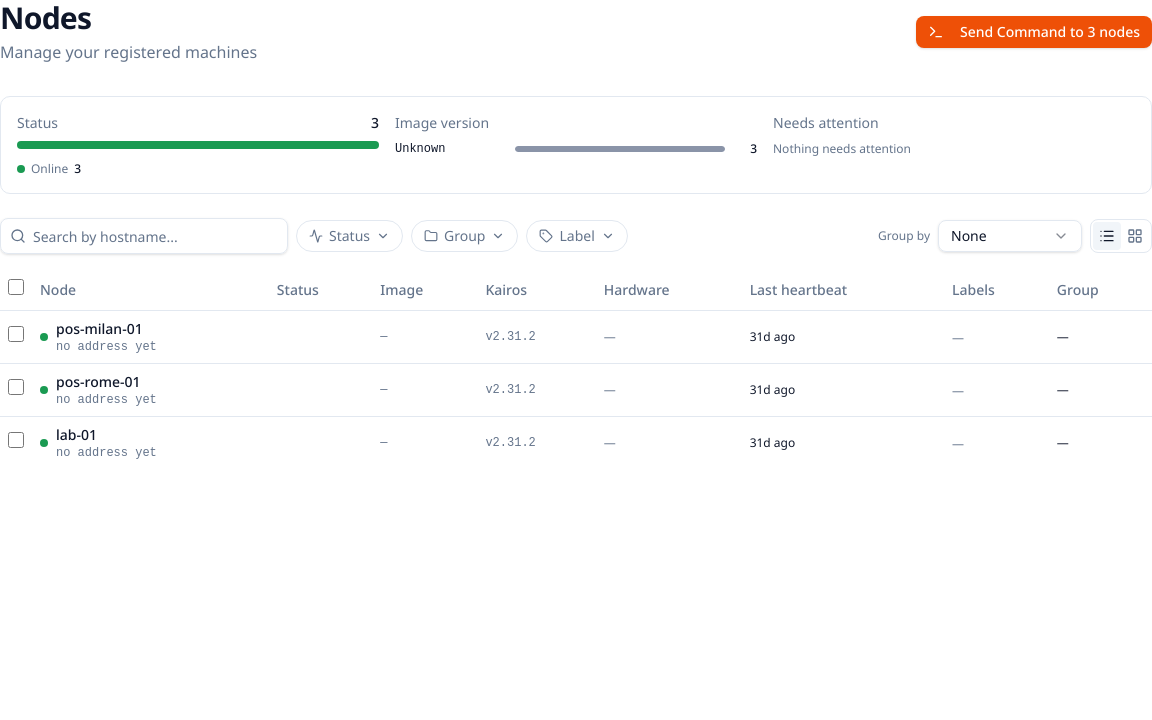
Test: Nodes bulk command › shows an error toast when the bulk command fails
This screenshot has width=1152, height=720.
Expected: the text "lab-01" is shown, [56,424,97,444]
Type "pos" into the field with placeholder "Search by hostname..." at (144, 236), box [0,218,288,254]
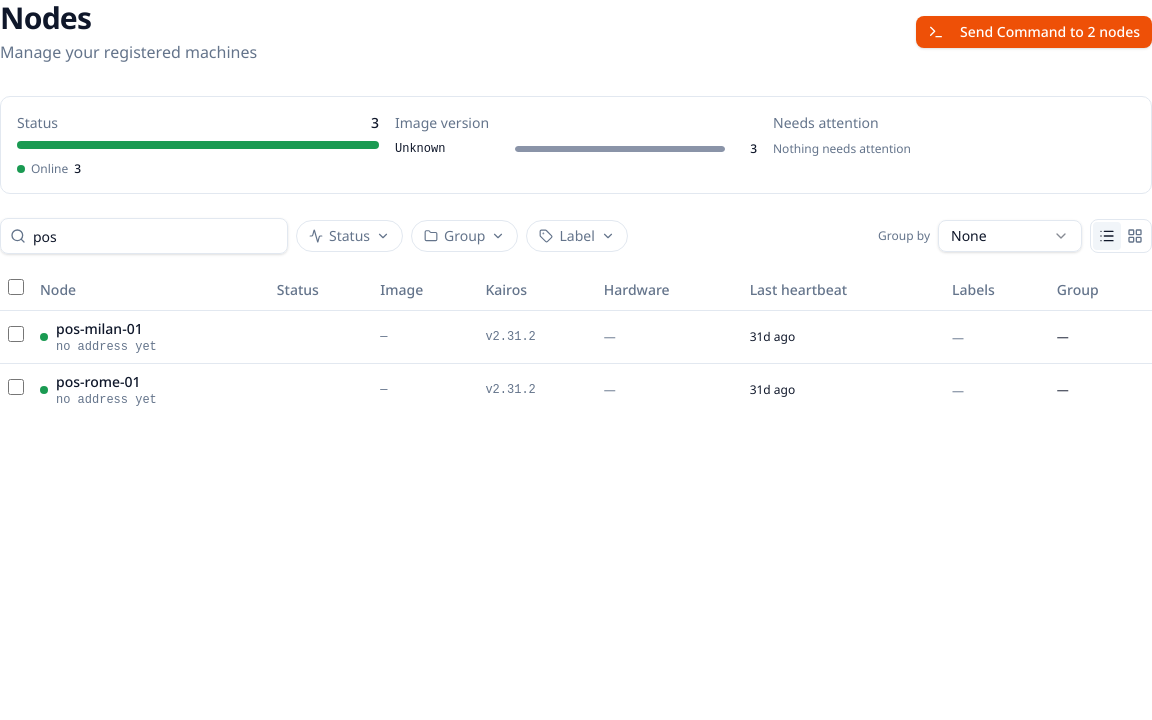
Click the button "Send Command to 2 nodes" at (1034, 32), box [916,16,1151,48]
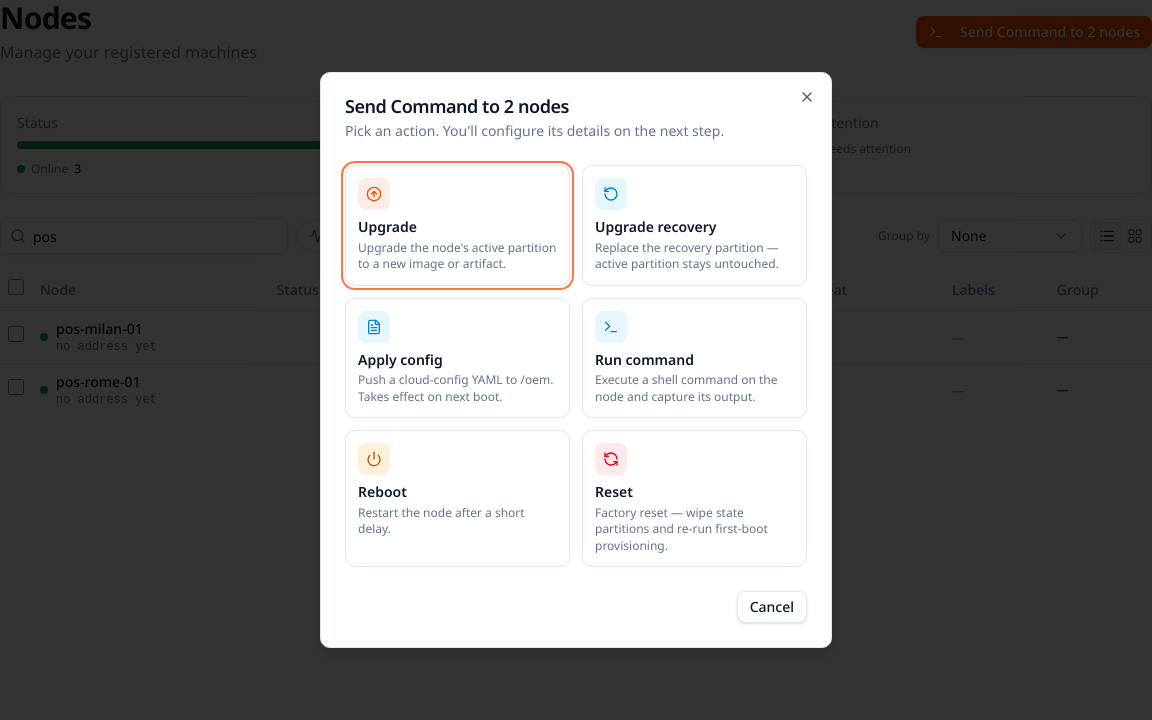
Click the button "Reboot Restart the node after a short delay." at (458, 498), box [345,430,570,567]
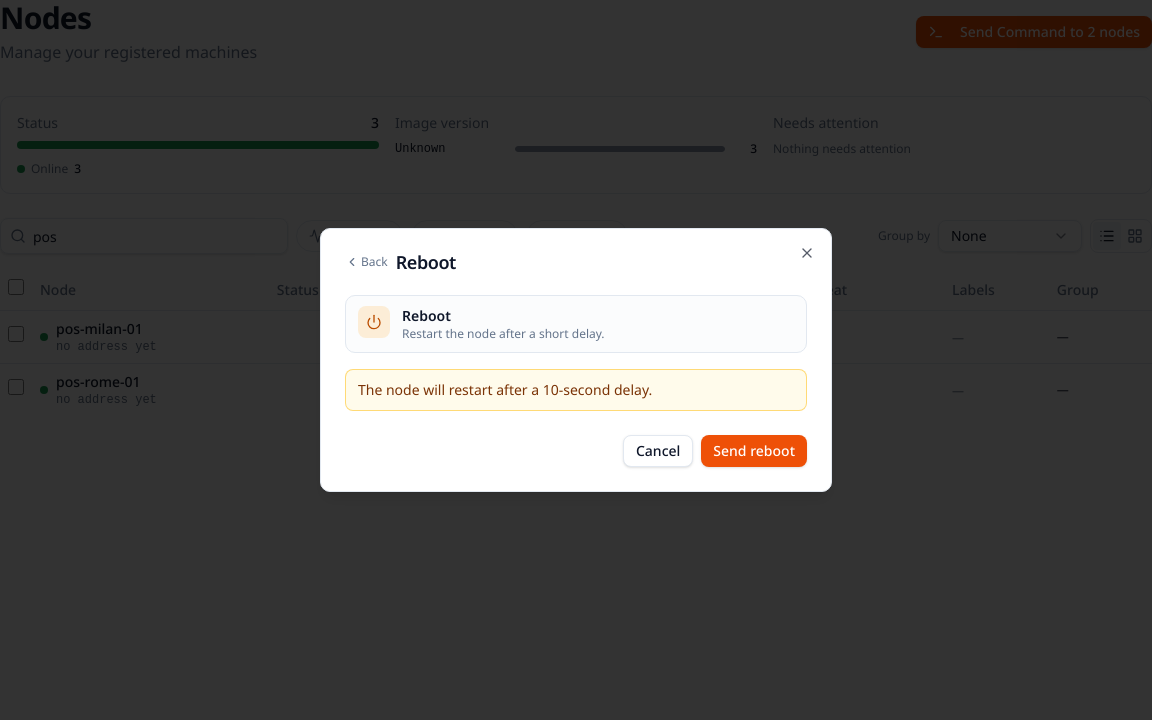
Click the button "Send reboot" at (754, 451), box [701,435,807,467]
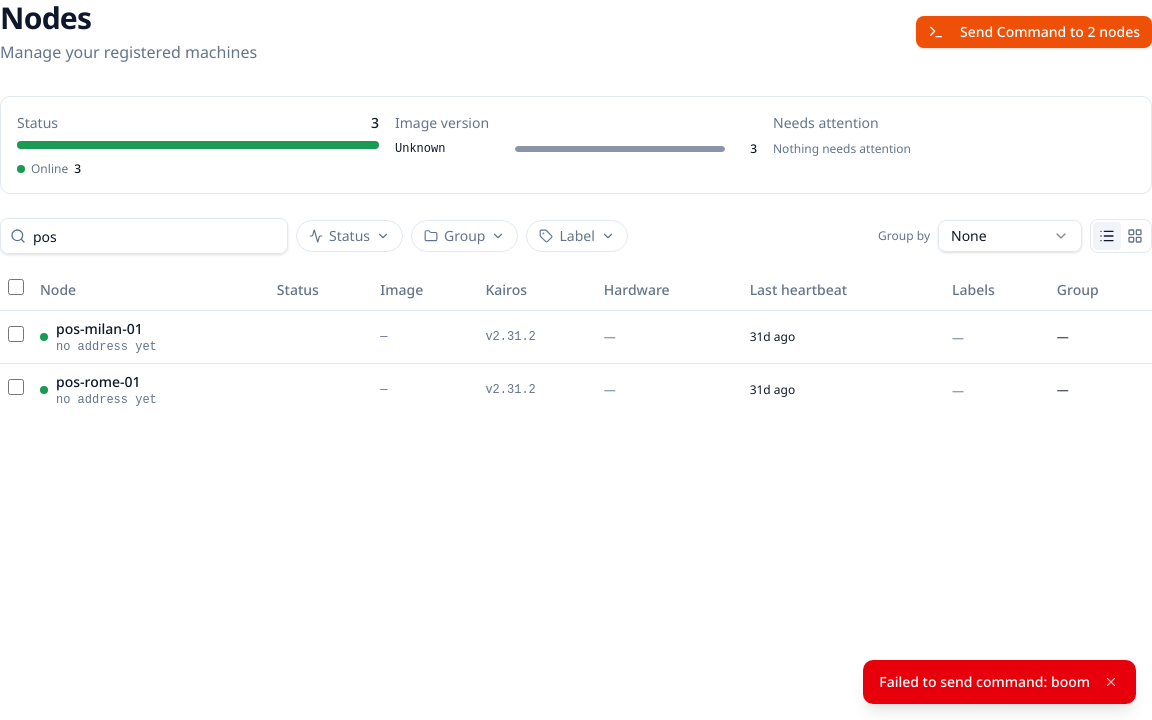
Expected: the text "Failed to send command: boom" is shown, [879,672,1090,692]
